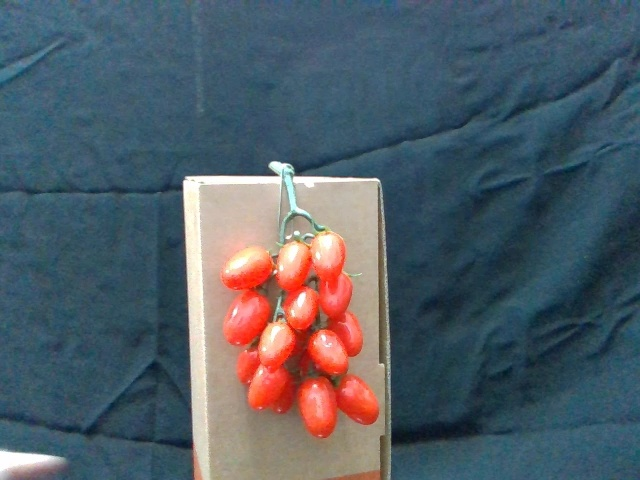tomato: (223, 290, 271, 347), (292, 380, 337, 439), (335, 373, 381, 429), (221, 246, 276, 290), (277, 239, 313, 296), (307, 330, 349, 377), (260, 322, 299, 371), (312, 230, 348, 282), (249, 365, 288, 411), (284, 288, 321, 333), (318, 277, 354, 322), (329, 311, 364, 355), (234, 345, 262, 389)
